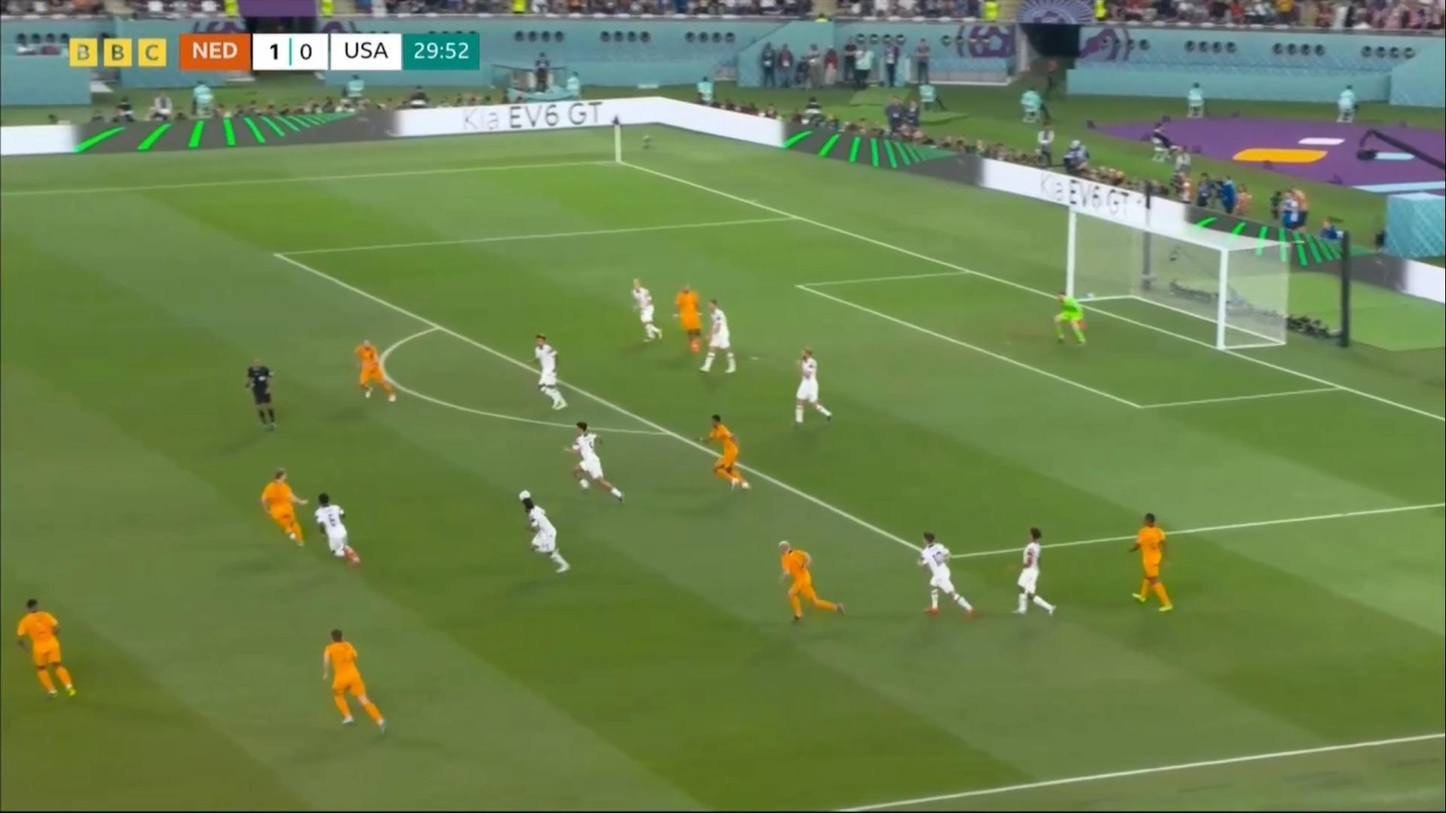Ball: (516, 485, 536, 503)
Player: (312, 629, 389, 736), (9, 596, 79, 703), (908, 527, 978, 622), (996, 523, 1063, 622), (1123, 511, 1183, 618), (770, 536, 837, 623), (564, 420, 624, 509), (258, 469, 315, 555), (306, 490, 363, 571), (698, 416, 754, 498), (517, 496, 571, 581), (788, 345, 839, 433), (524, 330, 573, 417), (690, 296, 738, 381), (348, 336, 396, 410), (667, 282, 711, 355), (628, 280, 670, 348), (1052, 290, 1087, 346)
Ref: (244, 353, 288, 435)
